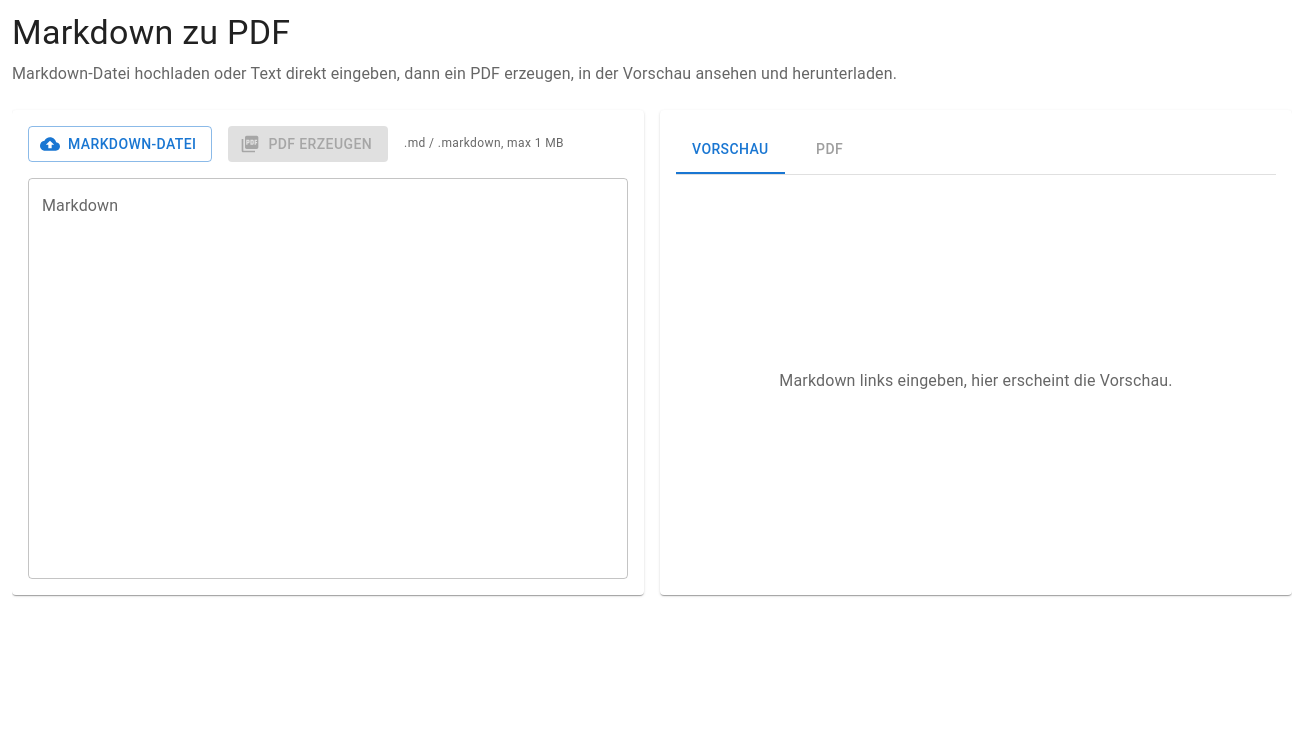
Test: MarkdownToPdfPage › disables "PDF erzeugen" until markdown is entered
Expected: the button "PDF erzeugen" is disabled, [228, 126, 388, 162]
In the text box labelled "Markdown": (328, 379) [42, 195, 614, 563], type "# Hallo"
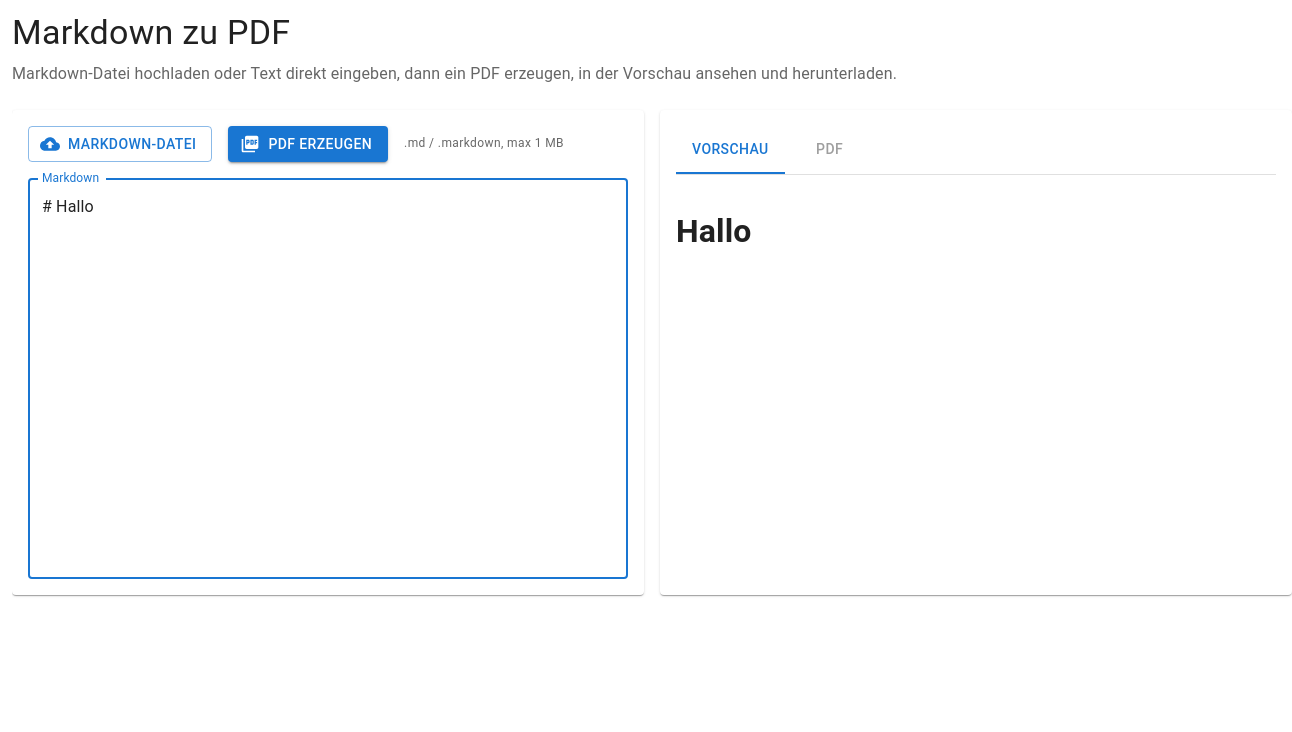
Now the button "PDF erzeugen" is enabled, box [228, 126, 388, 162]
